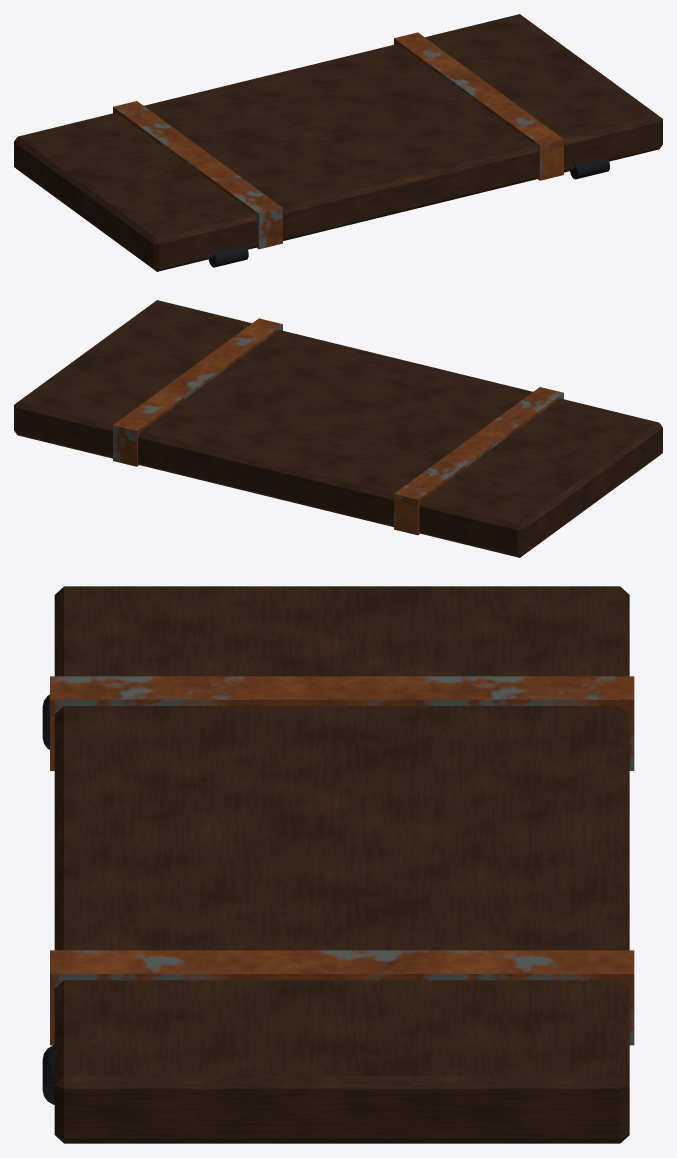
Rendered from mystery_box_lid.gltf.
3 renders of one model, top to bottom at view 1: azimuth 30°, elevation 25°; view 2: azimuth 150°, elevation 25°; view 3: azimuth 270°, elevation 25°, orthographic. The views are drawn at different scales.
Parts seen in each view (by area): view 1: MysteryBoxLid; view 2: MysteryBoxLid; view 3: MysteryBoxLid.
Boxes of the visible parts, x1=… form: MysteryBoxLid: x1=14, y1=14, x2=662, y2=271; MysteryBoxLid: x1=14, y1=300, x2=662, y2=557; MysteryBoxLid: x1=42, y1=586, x2=634, y2=1143.
Size of the model in its own units: 1.27 by 0.1055 by 0.638.
3 materials, 3 textured.
